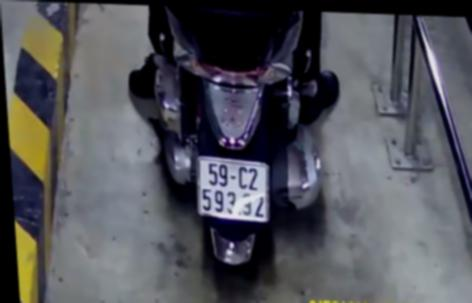License_Plate: (185, 150, 279, 230)
